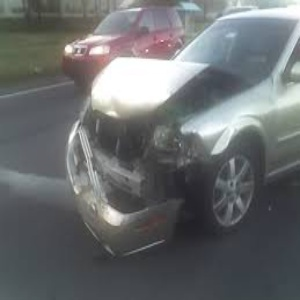bonnet: (94, 54, 209, 126)
bumper: (89, 168, 184, 255)
